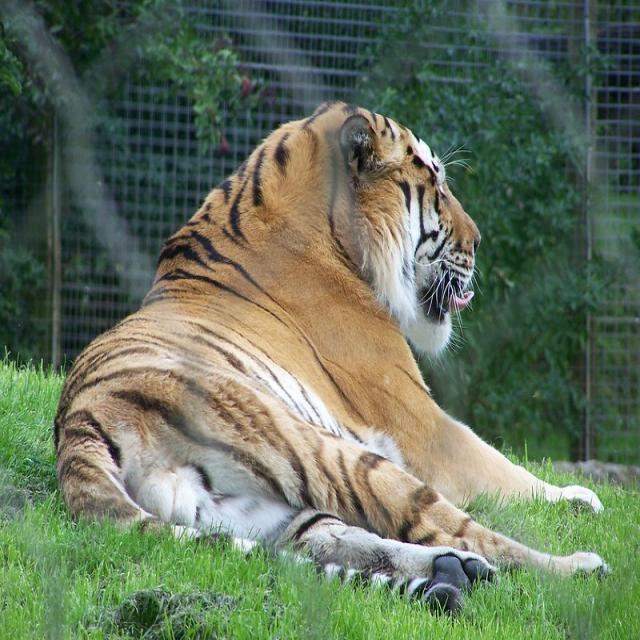Tiger: (49, 94, 591, 608)
